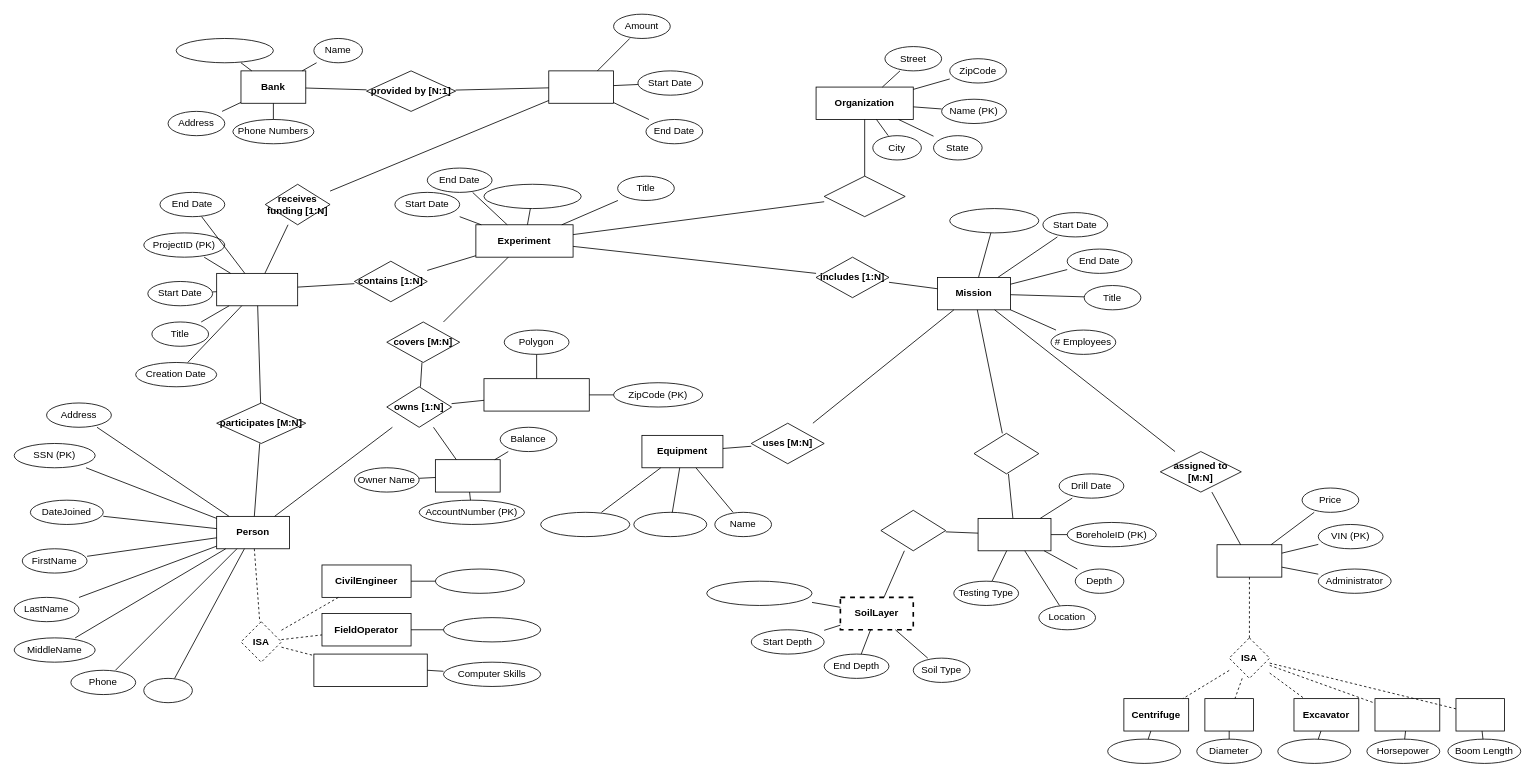
This 1535x778 diagram has some shape labels left out. The centre of each missing label's shape, as x and y in pixels:
Account: the point at 467,475
Borehole: the point at 1014,534
Bucket Size: the point at 1314,750
Bulldozer: the point at 1407,714
ComputerSpecialist: the point at 370,669
conducted by [N:1]: the point at 864,196
Crane: the point at 1480,714
Description: the point at 670,524
Drill: the point at 1228,714
drills [1:N]: the point at 1006,453
Email: the point at 167,690
EquipmentID (PK): the point at 585,524
ExperimentID (PK): the point at 532,196
Field of Expertise: the point at 479,580
Funding: the point at 581,86
has [1:N]: the point at 913,530
LayerID (PK in Borehole): the point at 759,592
MissionID (PK): the point at 994,220
Motor Power: the point at 1144,750
Project: the point at 257,289
RoutingNumber (PK): the point at 224,50
Vehicle: the point at 1249,560
Years of Experience: the point at 492,629
ZipCodeRegion: the point at 536,394
